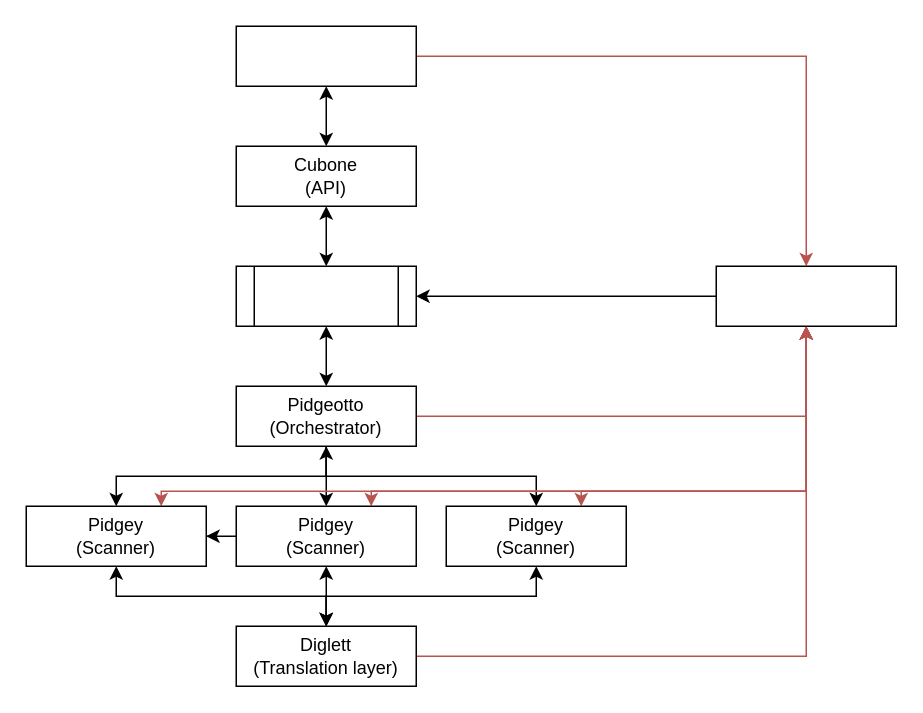
Image size: 923x713. Some labels were removed from this diagram. The shapes that lost their labels are listed below. From the top down, each one's box as (x1, y1, x2, y2) in pixels, then its label:
(235, 25, 416, 86): Bulbasaur ( Web application )
(235, 265, 416, 326): Database
(715, 265, 896, 326): Pokedex (Registry)
